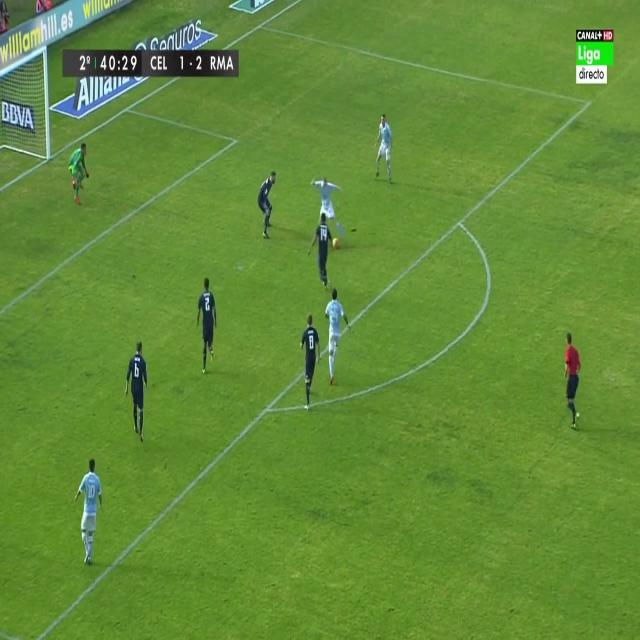Ball: (331, 233, 342, 255)
Goalkeeper: (66, 137, 90, 215)
Player: (72, 456, 106, 566), (123, 337, 149, 444), (324, 288, 352, 385), (194, 275, 218, 378), (297, 313, 321, 411), (306, 213, 331, 290), (254, 169, 280, 241), (309, 171, 343, 226), (374, 111, 394, 188)
Referee: (562, 328, 582, 433)
